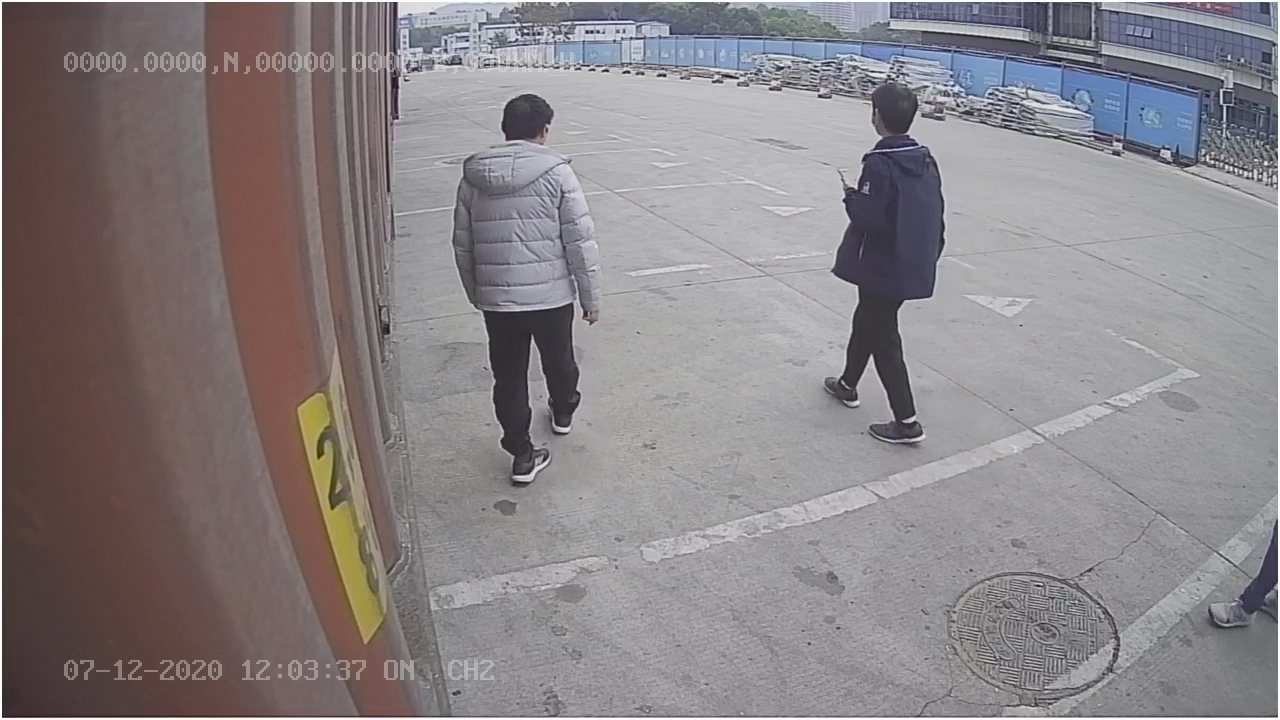person: (452, 90, 608, 490), (823, 72, 952, 448)
